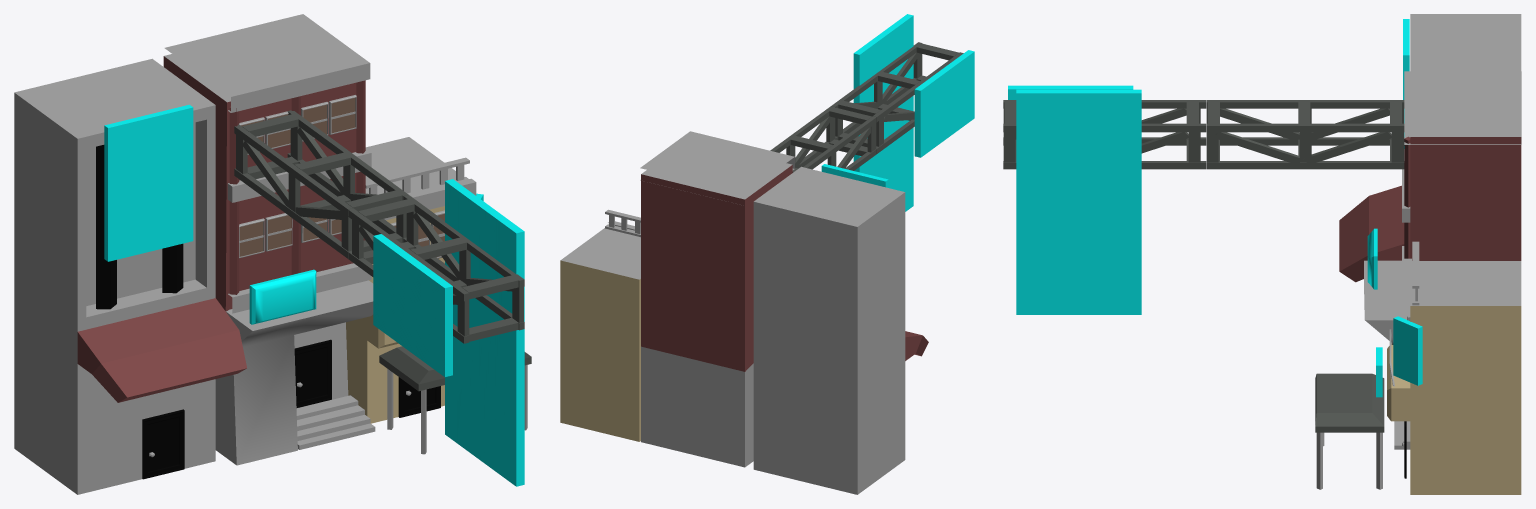
File: SciFiBuildings.fbx
3 views of the same model, side by side, from view 1: azimuth 30°, elevation 25°; view 2: azimuth 150°, elevation 25°; view 3: azimuth 270°, elevation 25° (orthographic). The views are drawn at different scales.
Visible parts, largest first — view 1: pCube185, pCube186, pCube270, pCube174, pCube198, pCube200, pCube172, pCube175, pCube187, pCube188, pSphere29, pSphere27 (+15 smaller); view 2: pCube185, pCube186, pCube175, pCube270, pCube174, pCube200, pCube172, pCube198, pCube184; view 3: pCube174, pCube175, pCube186, pCube270, pCube185, pCube200, pCube191, pCube190, pCylinder54, pCube172, pCube188.
Boxes of the visible parts, bbox=[...] form: pCube185: bbox=[14, 58, 246, 494]; pCube186: bbox=[163, 54, 373, 465]; pCube270: bbox=[234, 110, 524, 343]; pCube174: bbox=[445, 179, 524, 486]; pCube198: bbox=[104, 104, 193, 261]; pCube200: bbox=[164, 14, 370, 112]; pCube172: bbox=[373, 234, 452, 376]; pCube175: bbox=[346, 137, 455, 423]; pCube187: bbox=[296, 395, 375, 449]; pCube188: bbox=[249, 269, 316, 324]; pSphere29: bbox=[142, 409, 184, 479]; pSphere27: bbox=[294, 339, 331, 407]; pCube185: bbox=[753, 166, 928, 494]; pCube186: bbox=[641, 163, 792, 467]; pCube175: bbox=[560, 228, 640, 441]; pCube270: bbox=[770, 42, 963, 172]; pCube174: bbox=[853, 14, 913, 211]; pCube200: bbox=[640, 131, 794, 193]; pCube172: bbox=[914, 50, 974, 157]; pCube198: bbox=[821, 164, 888, 187]; pCube184: bbox=[605, 209, 640, 237]; pCube174: bbox=[1016, 89, 1141, 314]; pCube175: bbox=[1387, 261, 1521, 494]; pCube186: bbox=[1364, 130, 1521, 340]; pCube270: bbox=[1003, 100, 1404, 169]; pCube185: bbox=[1339, 14, 1521, 282]; pCube200: bbox=[1404, 71, 1521, 144]; pCube191: bbox=[1315, 373, 1384, 432]; pCube190: bbox=[1393, 316, 1422, 385]; pCylinder54: bbox=[1404, 136, 1410, 258]; pCube172: bbox=[1008, 85, 1133, 99]; pCube188: bbox=[1367, 228, 1377, 289].
Bounding box in the file's own units: 126 × 110 × 157.
